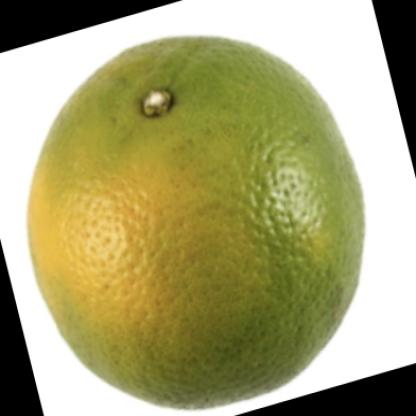fresh: (30, 37, 364, 407)
